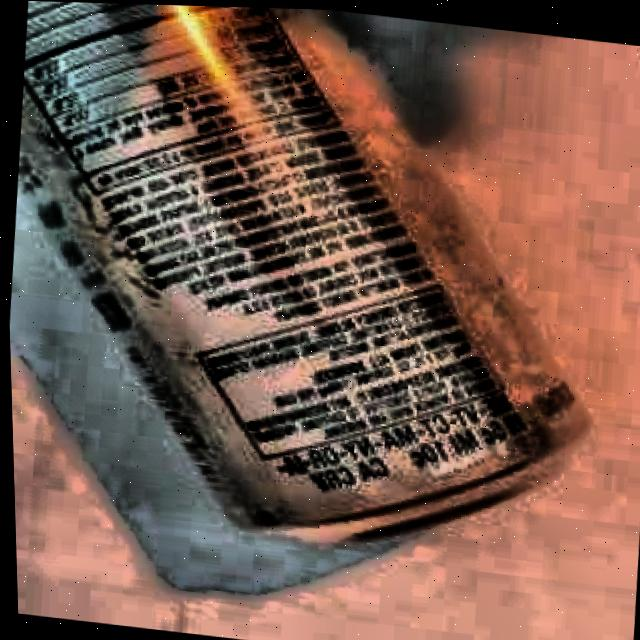metal: (14, 1, 592, 547)
